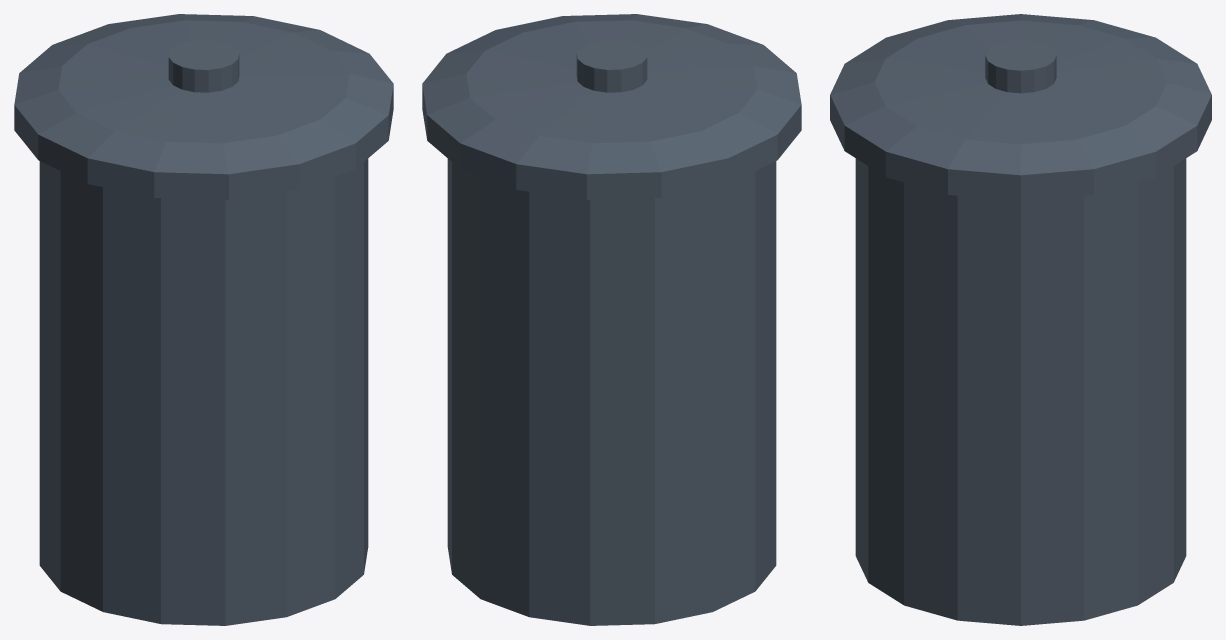
The model's file is trashcan.fbx.
3 views of the same model, side by side, from view 1: azimuth 30°, elevation 25°; view 2: azimuth 150°, elevation 25°; view 3: azimuth 270°, elevation 25° (orthographic).
Parts seen in each view (by area): view 1: trashcan; view 2: trashcan; view 3: trashcan.
Part boxes in pixels (x1,y1,x2,y2): trashcan: [14, 14, 393, 625]; trashcan: [422, 14, 801, 625]; trashcan: [830, 14, 1211, 625].
Bounding box in the file's own units: 0.605 × 0.8751 × 0.605.
